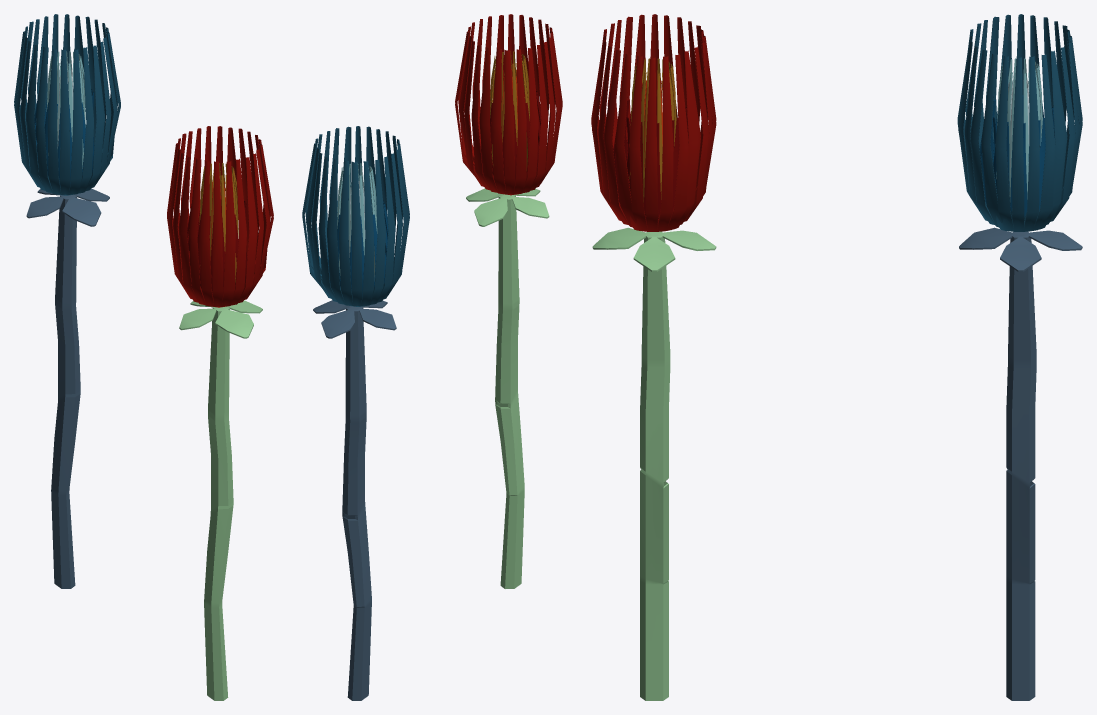
The model's file is Planta_Plataforma_Fechada_Estações.fbx.
The picture shows the model from 3 angles, left to right: view 1: azimuth 30°, elevation 25°; view 2: azimuth 150°, elevation 25°; view 3: azimuth 270°, elevation 25°; orthographic projection. The views are drawn at different scales.
Visible parts, largest first — view 1: pCylinder6, Final_Uv_12H:pCylinder6, Final_Uv_12H:pCube4, pCube4, pCylinder1, Final_Uv_12H:pCylinder1, pCylinder5, Final_Uv_12H:pCylinder5; view 2: Final_Uv_12H:pCylinder6, pCylinder6, pCube4, Final_Uv_12H:pCube4, pCylinder1, Final_Uv_12H:pCylinder1, pCylinder5, Final_Uv_12H:pCylinder5; view 3: Final_Uv_12H:pCylinder6, pCylinder6, Final_Uv_12H:pCube4, pCube4, Final_Uv_12H:pCylinder1, Final_Uv_12H:pCylinder5, pCylinder1, pCylinder5.
Part boxes in pixels (<box>): pCylinder6: <box>167,126,273,307</box>; Final_Uv_12H:pCylinder6: <box>14,14,120,195</box>; Final_Uv_12H:pCube4: <box>26,188,109,588</box>; pCube4: <box>179,300,262,700</box>; pCylinder1: <box>199,163,238,282</box>; Final_Uv_12H:pCylinder1: <box>46,51,85,168</box>; pCylinder5: <box>187,196,247,297</box>; Final_Uv_12H:pCylinder5: <box>34,83,94,186</box>; Final_Uv_12H:pCylinder6: <box>302,126,409,306</box>; pCylinder6: <box>455,14,562,195</box>; pCube4: <box>466,188,549,588</box>; Final_Uv_12H:pCube4: <box>313,300,396,700</box>; pCylinder1: <box>490,51,529,170</box>; Final_Uv_12H:pCylinder1: <box>337,163,377,281</box>; pCylinder5: <box>480,87,541,185</box>; Final_Uv_12H:pCylinder5: <box>328,200,388,299</box>; Final_Uv_12H:pCylinder6: <box>957,14,1082,231</box>; pCylinder6: <box>591,14,716,231</box>; Final_Uv_12H:pCube4: <box>959,227,1082,700</box>; pCube4: <box>592,227,716,700</box>; Final_Uv_12H:pCylinder1: <box>996,58,1042,202</box>; Final_Uv_12H:pCylinder5: <box>979,95,1054,217</box>; pCylinder1: <box>629,58,676,202</box>; pCylinder5: <box>613,95,688,217</box>.
Size of the model in its own units: 292 by 1657 by 1115.
